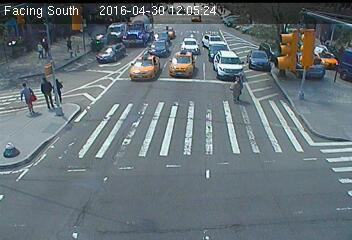neg: (212, 132, 241, 169), (116, 49, 140, 81), (81, 138, 105, 169), (282, 161, 302, 188), (165, 83, 185, 110), (282, 98, 301, 123), (285, 44, 304, 68), (169, 31, 187, 55), (172, 198, 190, 221), (9, 136, 26, 159), (52, 173, 68, 195), (149, 139, 161, 156)
pos: (6, 80, 31, 113), (29, 75, 54, 108), (228, 71, 252, 103), (50, 76, 69, 102)
